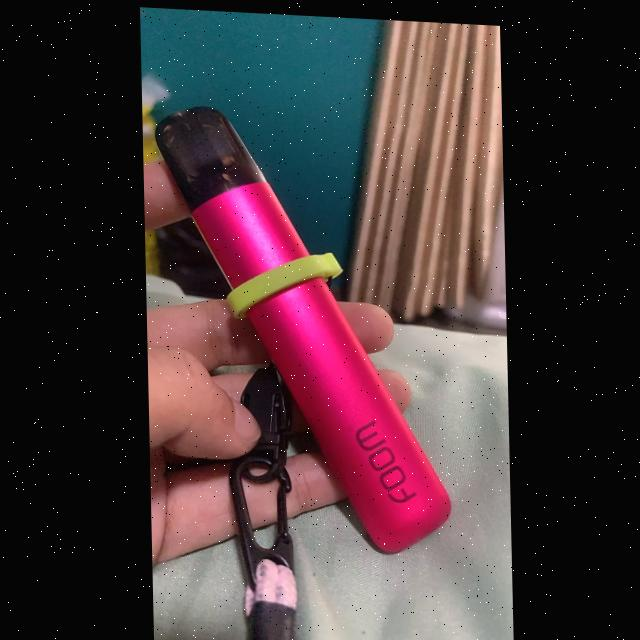vape: (152, 100, 451, 550)
